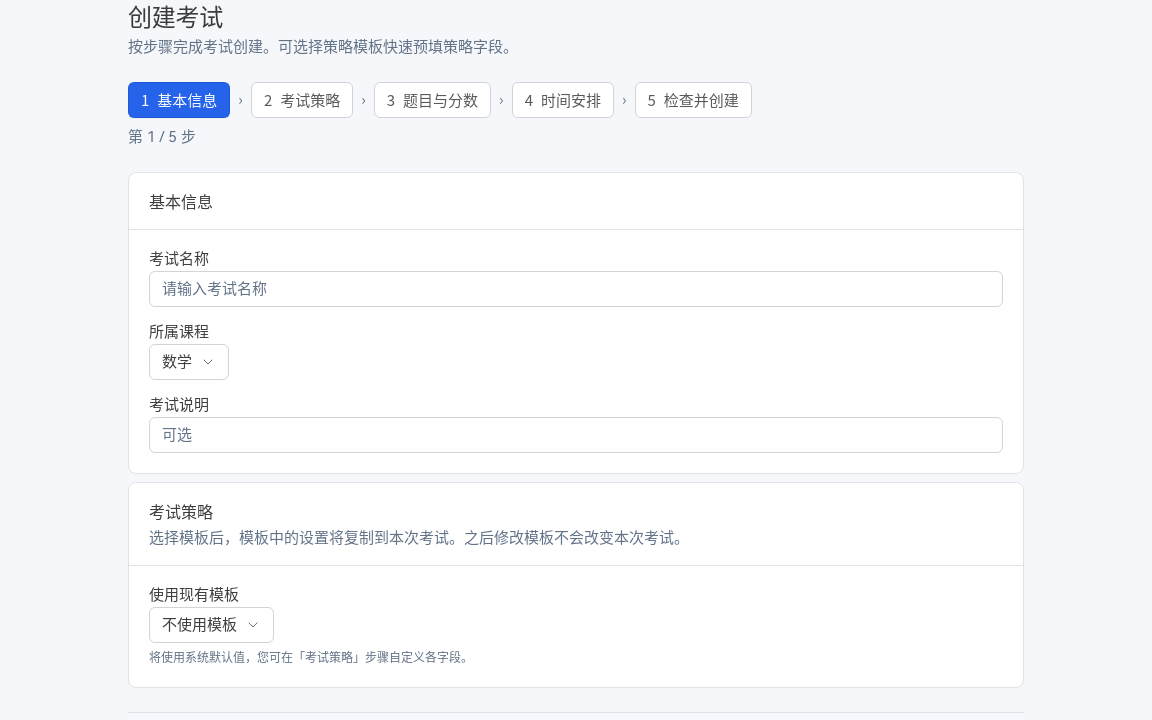
Test case: ExamCreatePage wizard — step 1 (basic + profile) › does NOT surface latent Phase-2 control flags anywhere in the wizard
The image size is (1152, 720).
Type "Flags Exam" into the field with placeholder "请输入考试名称" at (576, 289), box [149, 271, 1003, 307]
(page scrolled)
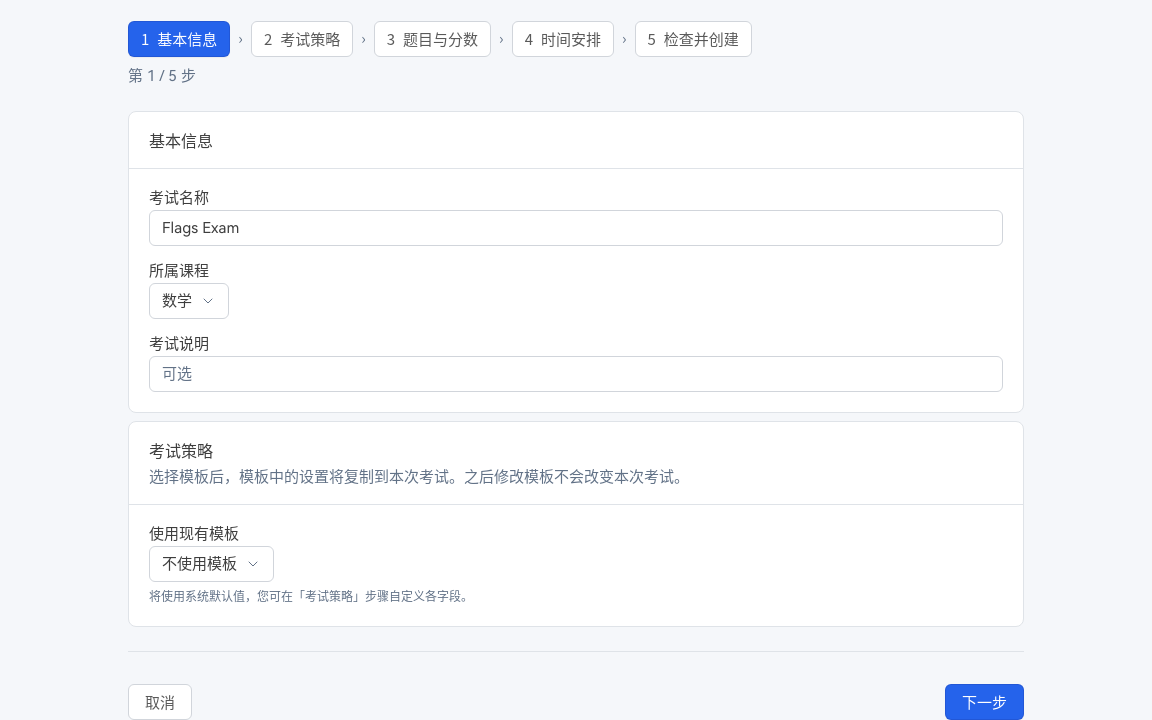
Click the button "下一步" at (984, 702), box [945, 684, 1024, 719]
(page scrolled)
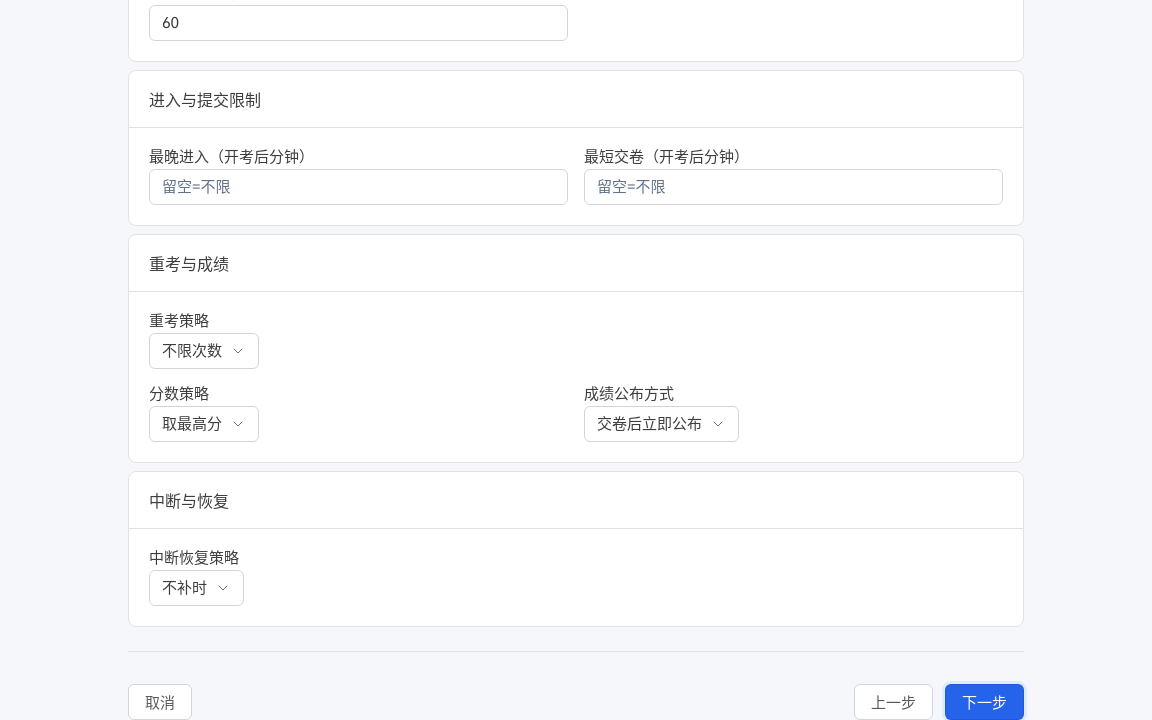
Check: the number field labelled "考试时长（分钟）" is shown, box [149, 5, 568, 41]
Click the button "下一步" at (984, 702), box [945, 684, 1024, 719]
(page scrolled)
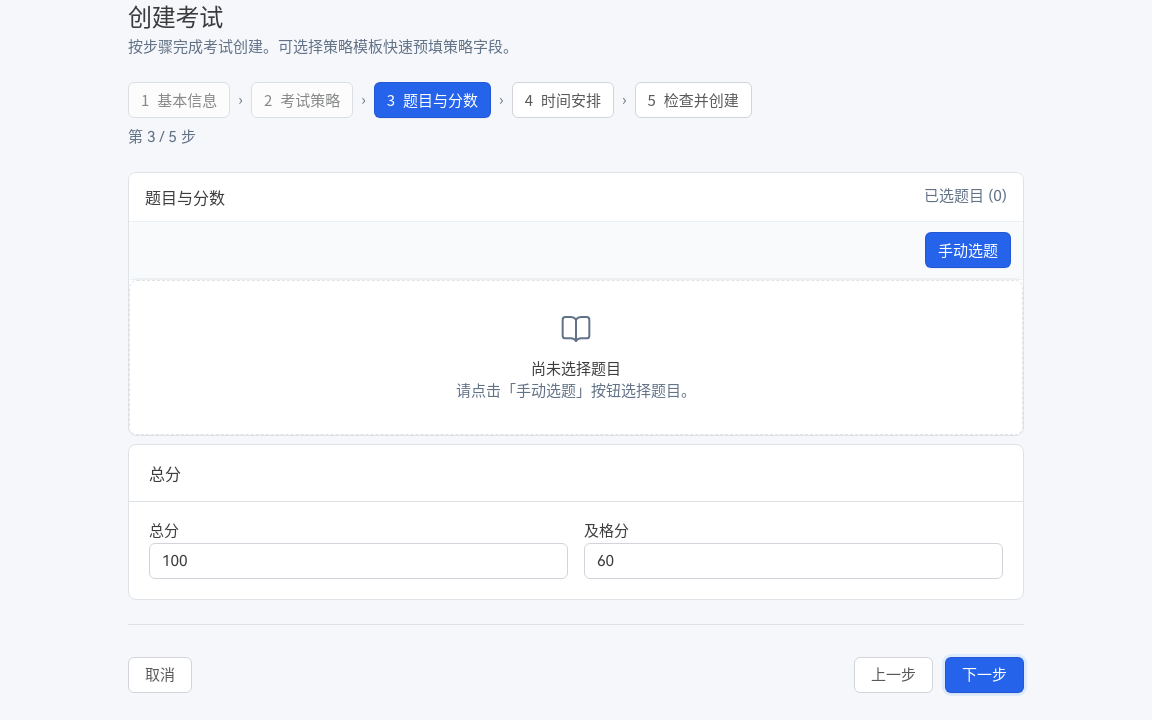
Click the button "下一步" at (984, 674), box [945, 656, 1024, 692]
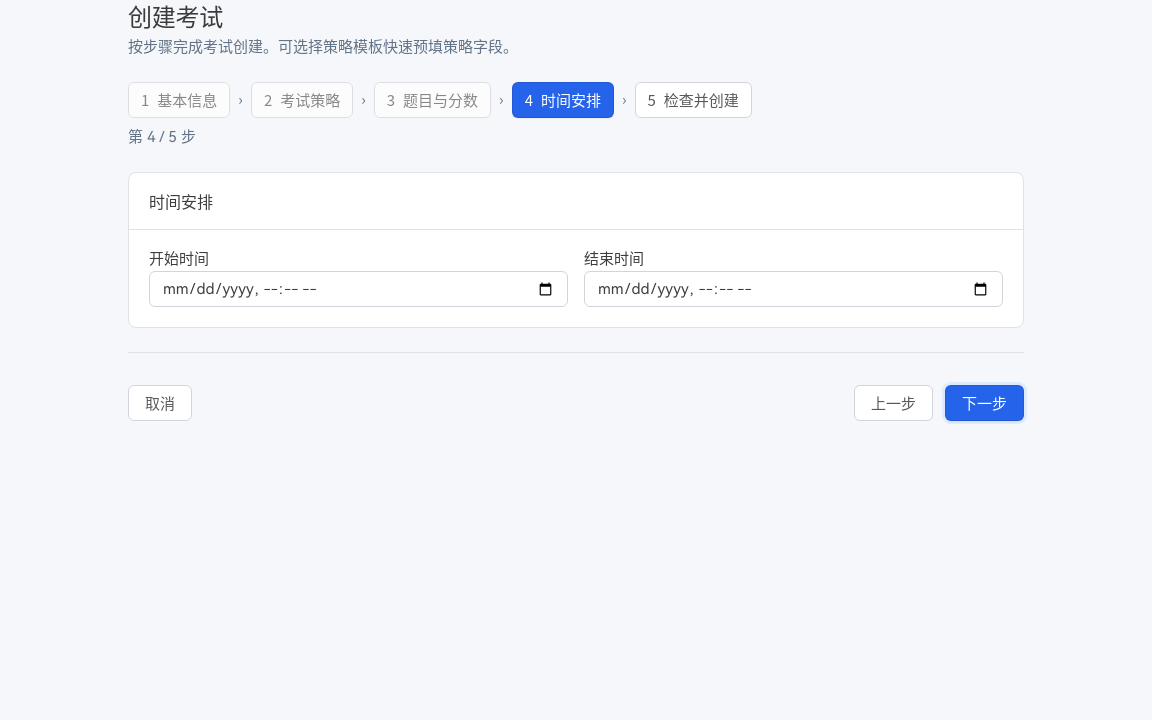
Type "2026-09-01T09:00" into the field labelled "开始时间" at (358, 289), box [149, 271, 568, 307]
Type "2026-09-01T11:00" into the field labelled "结束时间" at (794, 289), box [584, 271, 1003, 307]
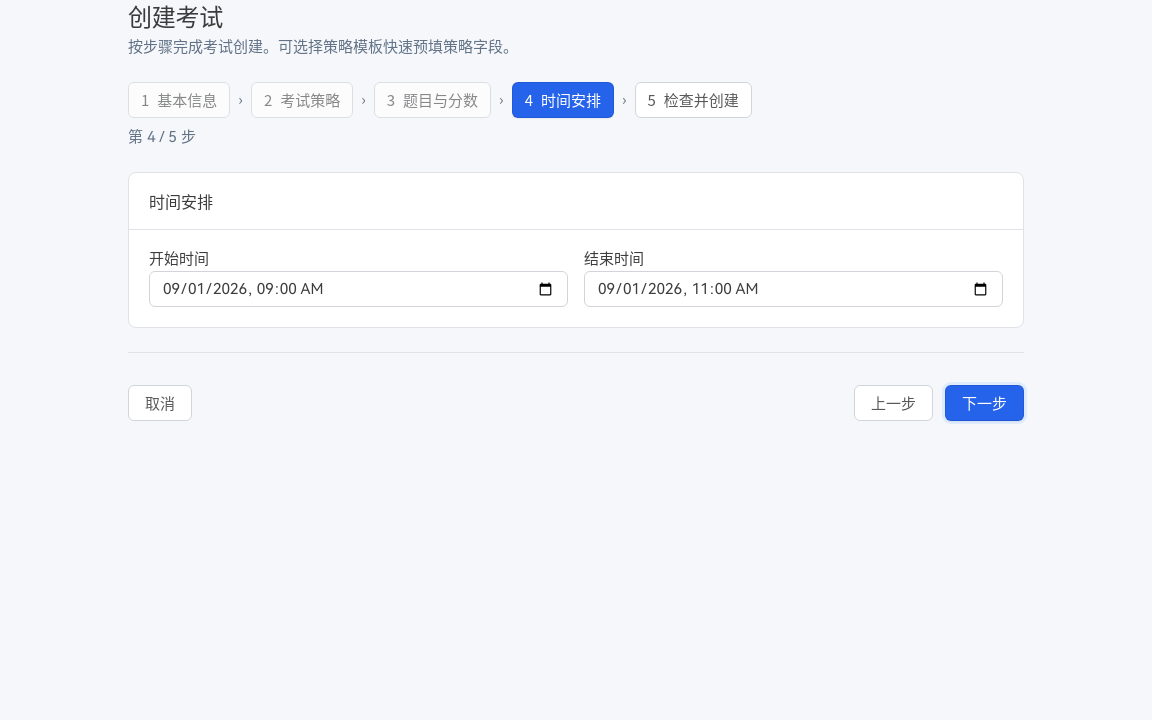
Click the button "下一步" at (984, 403), box [945, 385, 1024, 421]
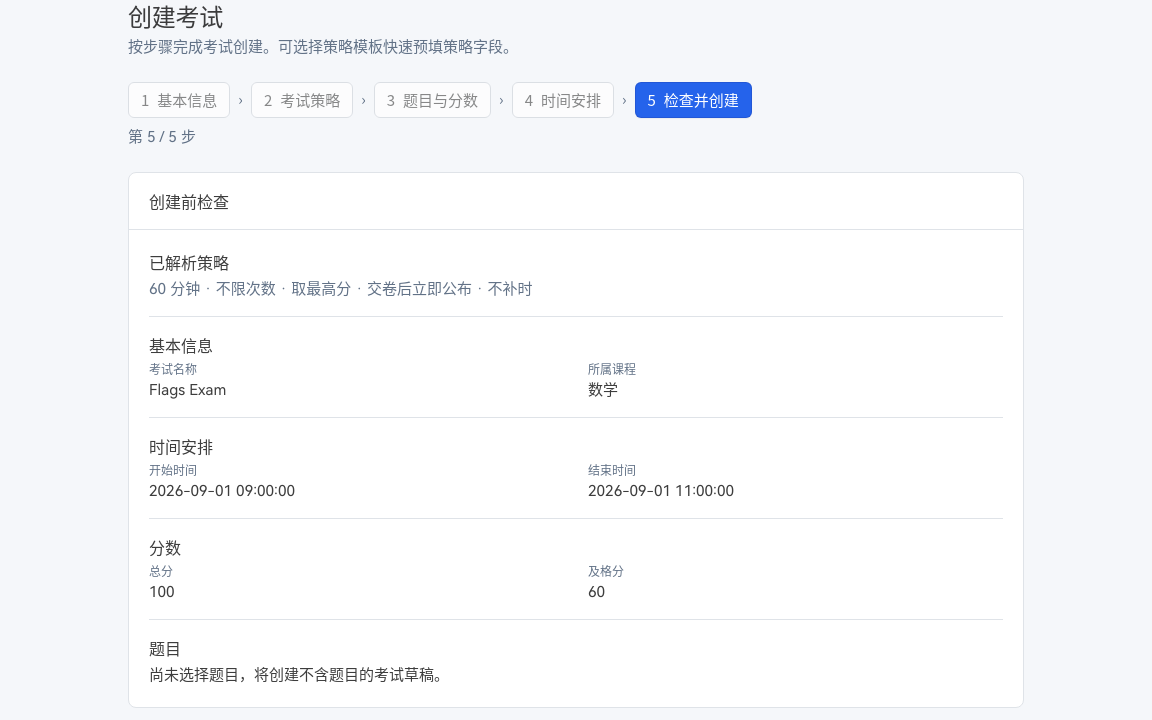
Check: the heading "创建前检查" is shown, box [149, 189, 229, 213]
